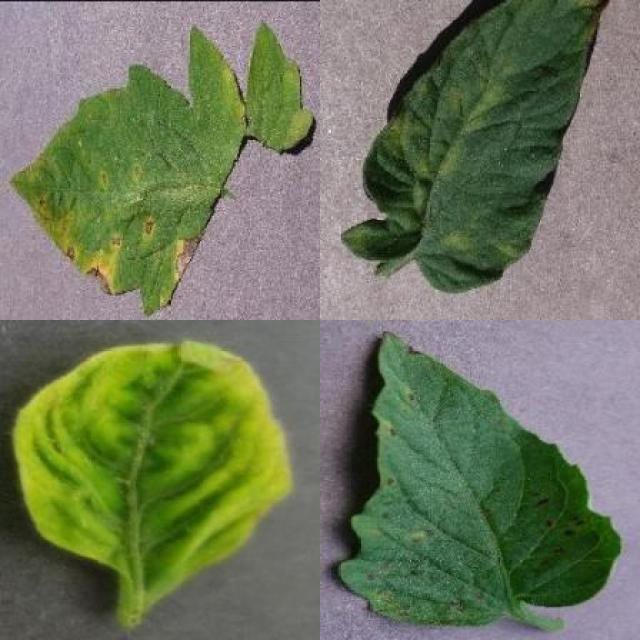Leaf Mold: (341, 0, 607, 294)
Septoria: (338, 331, 623, 628), (8, 24, 245, 315)
Yellow Leaf Curl Virus: (13, 342, 293, 624)
